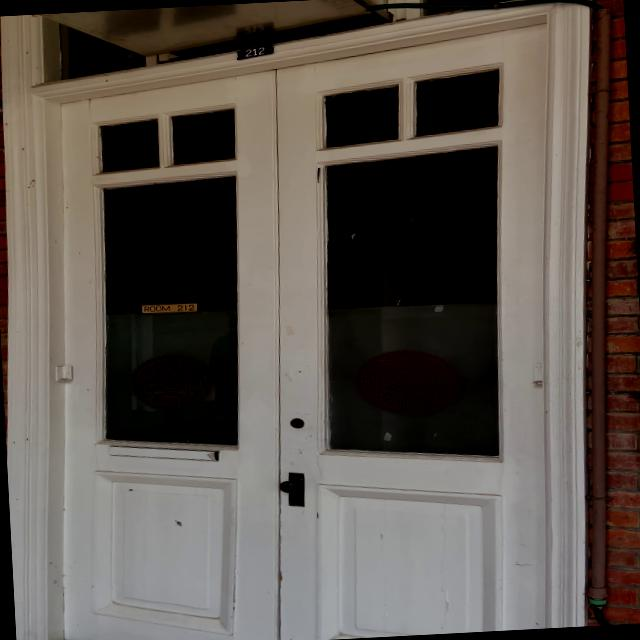room212: (228, 38, 278, 62)
room212Window: (130, 298, 206, 318)
